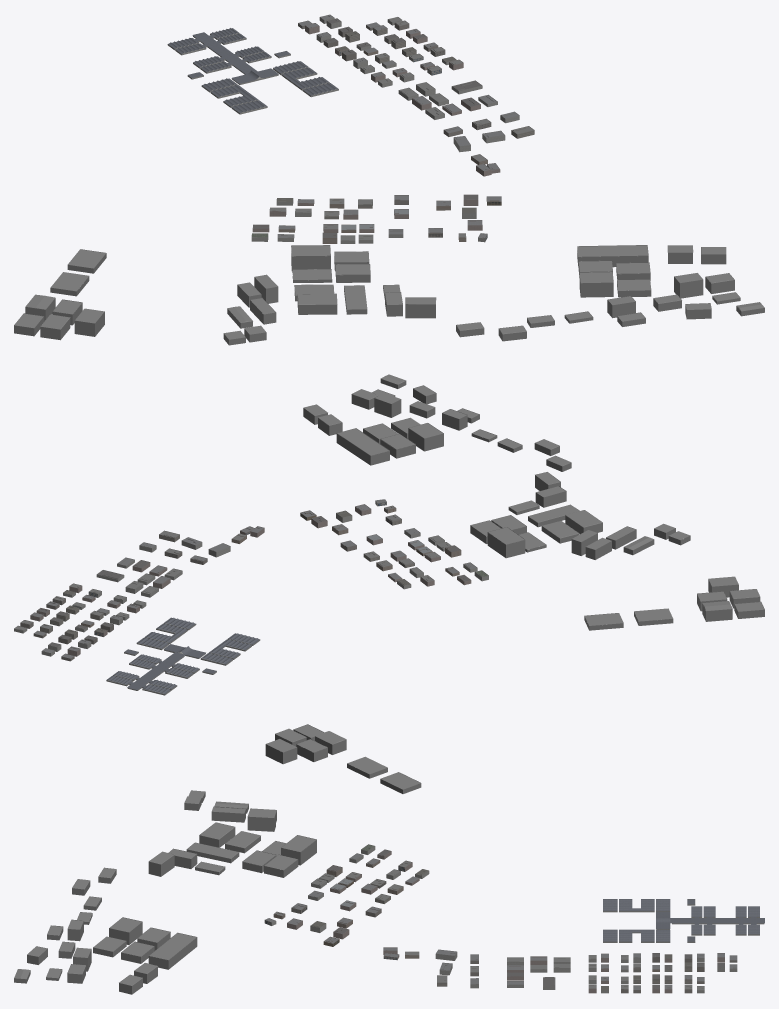
Rendered from v3otherBuild.gltf.
The picture shows the model from 3 angles, top to bottom: view 1: azimuth 30°, elevation 25°; view 2: azimuth 150°, elevation 25°; view 3: azimuth 270°, elevation 25°; orthographic projection. The views are drawn at different scales.
Parts seen in each view (by area): view 1: Wj_pl2.001, Secondary_Building_22.001, Secondary_Building_13.001, Secondary_Building_12.001, Secondary_Building_08.001, Secondary_Building_07.001, Secondary_Building_05.001, Secondary_Building_06.001; view 2: Wj_pl2.001, Secondary_Building_22.001, Secondary_Building_13.001, Secondary_Building_12.001, Secondary_Building_08.001; view 3: Wj_pl2.001, Secondary_Building_22.001, Secondary_Building_13.001, Secondary_Building_12.001, Secondary_Building_08.001, Secondary_Building_07.001.
Part boxes in pixels (bbox=[...]): Wj_pl2.001: bbox=[14, 245, 764, 345]; Secondary_Building_22.001: bbox=[167, 28, 338, 114]; Secondary_Building_13.001: bbox=[398, 80, 497, 119]; Secondary_Building_12.001: bbox=[443, 111, 534, 176]; Secondary_Building_08.001: bbox=[322, 224, 374, 243]; Secondary_Building_07.001: bbox=[324, 198, 372, 219]; Secondary_Building_05.001: bbox=[269, 198, 314, 216]; Secondary_Building_06.001: bbox=[251, 224, 295, 241]; Wj_pl2.001: bbox=[303, 374, 764, 630]; Secondary_Building_22.001: bbox=[106, 617, 260, 695]; Secondary_Building_13.001: bbox=[96, 557, 182, 597]; Secondary_Building_12.001: bbox=[139, 526, 264, 564]; Secondary_Building_08.001: bbox=[408, 535, 461, 562]; Wj_pl2.001: bbox=[14, 724, 421, 994]; Secondary_Building_22.001: bbox=[603, 899, 764, 942]; Secondary_Building_13.001: bbox=[507, 956, 570, 989]; Secondary_Building_12.001: bbox=[383, 947, 478, 988]; Secondary_Building_08.001: bbox=[311, 865, 361, 893]; Secondary_Building_07.001: bbox=[361, 879, 403, 903].
Bounding box in the file's own units: 3186 × 77.21 × 3837.
128 materials, 128 textured.
